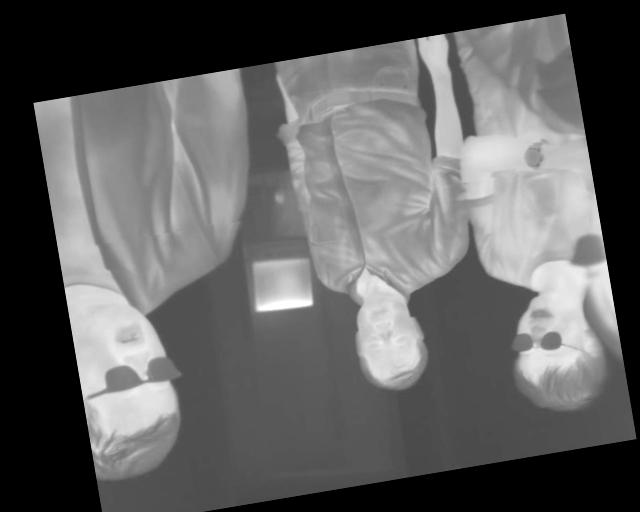face: (67, 292, 193, 485), (502, 285, 609, 421), (345, 287, 434, 397)
